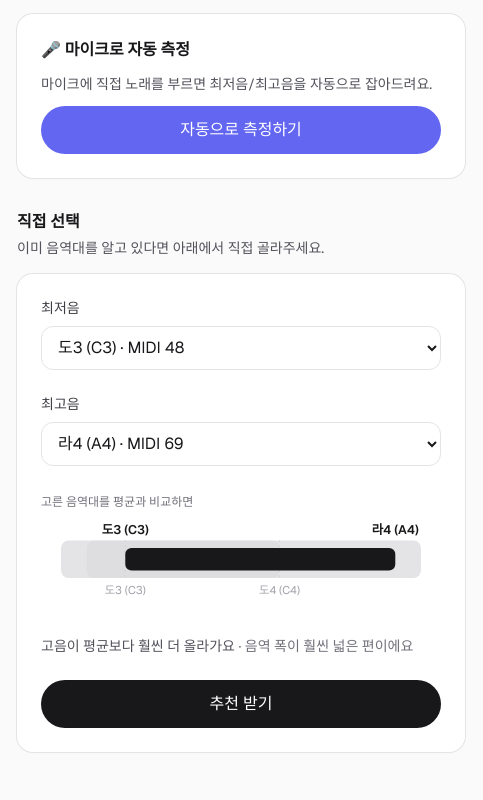
Test: /voice-range 페이지 mutation/cleanup race 가드 (#1111 후속) › 시나리오 2: 401 응답 → alert 즉시 노출 + retry 0건 + router.push / setVoiceRangeId 0건
(page scrolled)
Step 1. Click the button "추천 받기" → (241, 704), box x1=41 y1=680 x2=441 y2=728
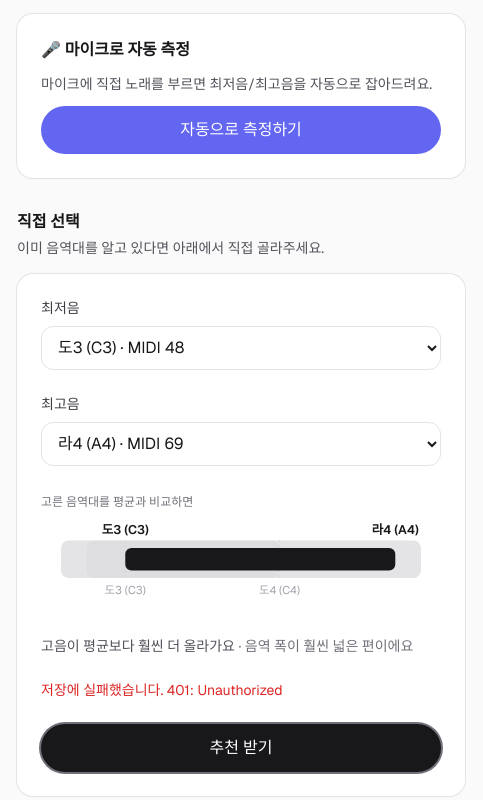
Expected: the message shows "저장에 실패했습니다", x1=41 y1=681 x2=167 y2=699
Expected: the message shows "401", x1=167 y1=681 x2=283 y2=699
